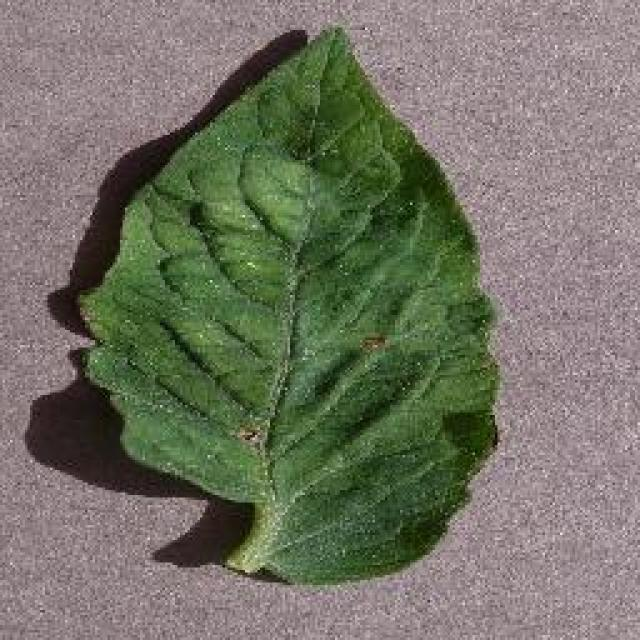Tomato___Target_Spot: (80, 28, 498, 582)
